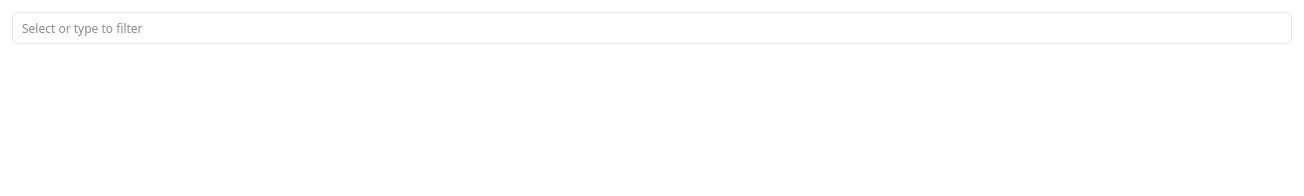
the whole list is reachable without typing › shows every rep on focus, before a single keystroke
Focus the dropdown: point(652, 28) [12, 12, 1292, 44]
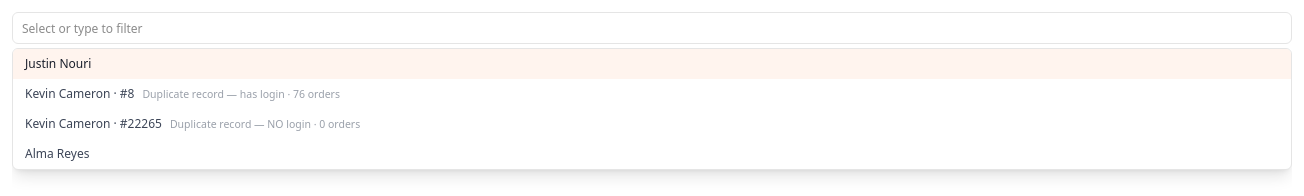
Expected: the number of options is 4, [13, 49, 1291, 79]; [25, 85, 340, 102]; [25, 115, 360, 132]; [25, 145, 90, 162]
